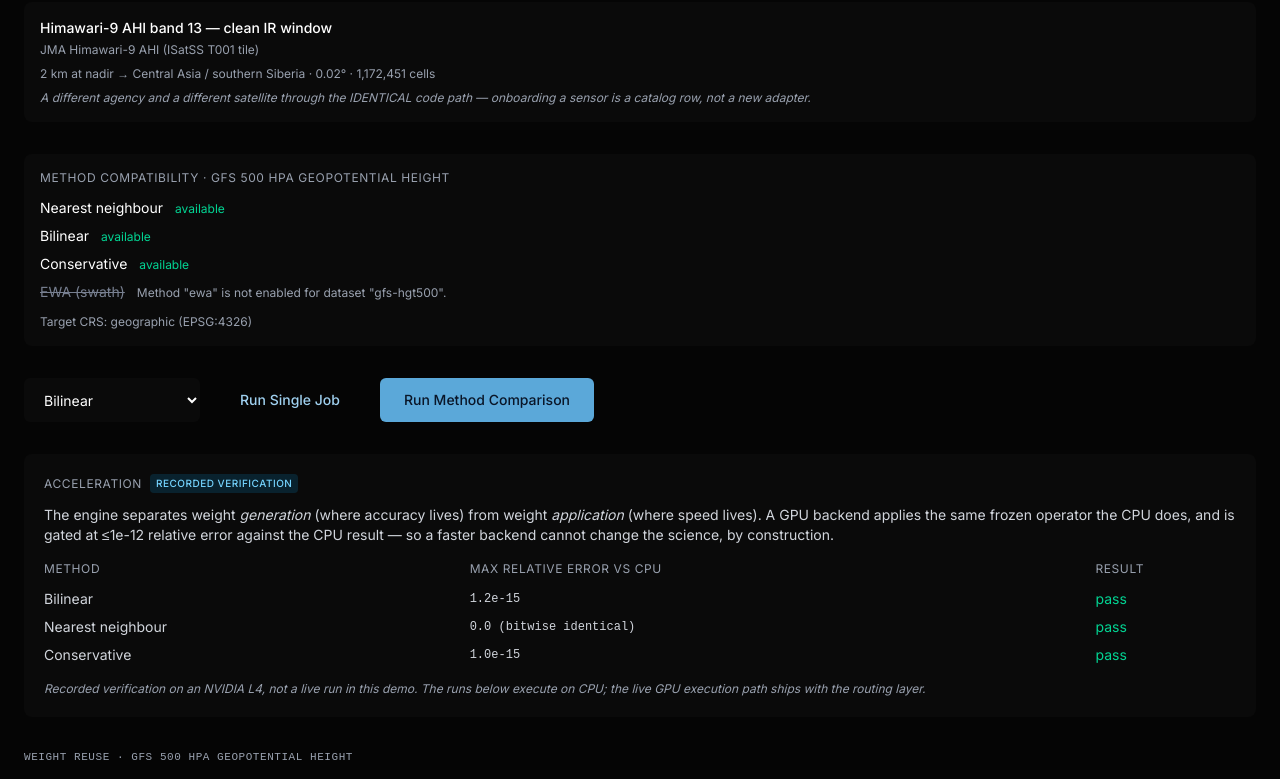
Test: Feature: Public Omni-Gridder Showcase and Client Portal Access › Scenario: Public Omni-Gridder showcase surfaces a consultation link when the daily demo budget is exhausted › displays the daily compute budget notice with a link to /book
The width and height of the screenshot is (1280, 779).
(page scrolled)
Click the button "Run Single Job".
click(290, 400)  # box [216,378,364,422]
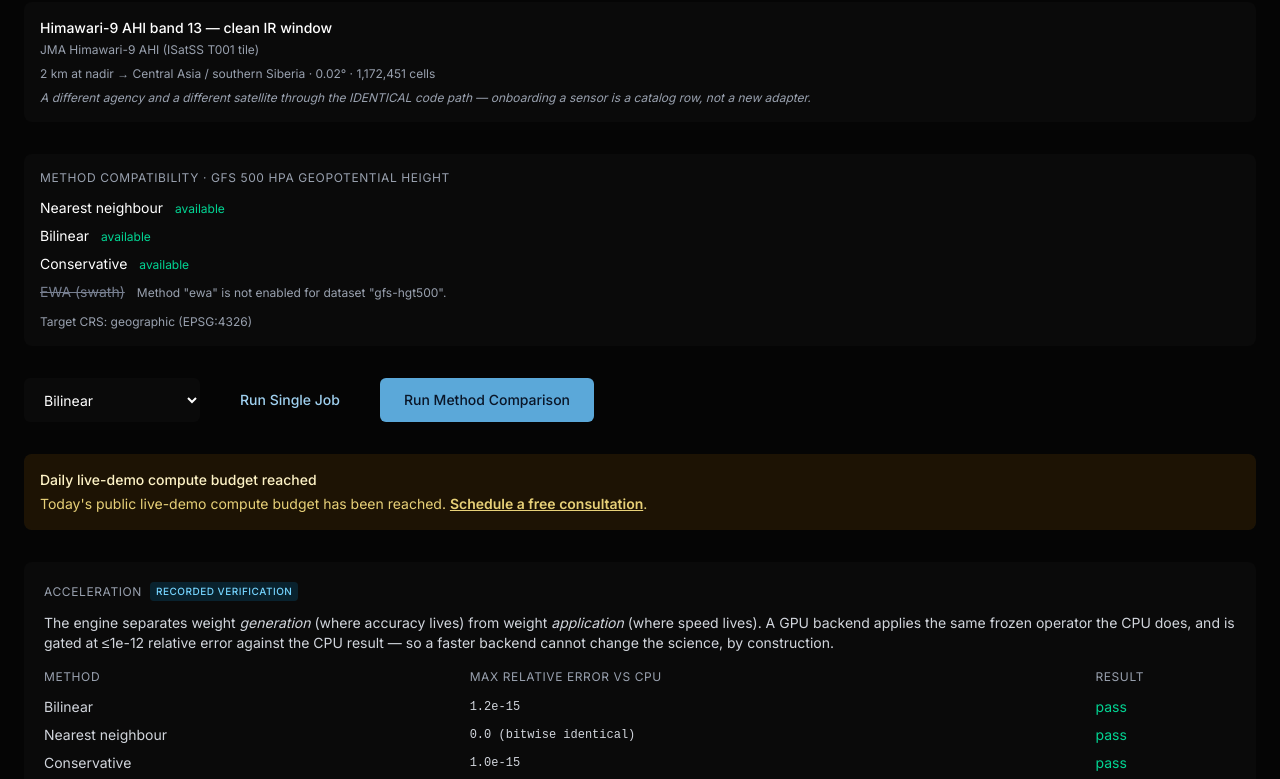
Check: the text "Daily live-demo compute budget reached" is shown, box [40,471,317,488]
